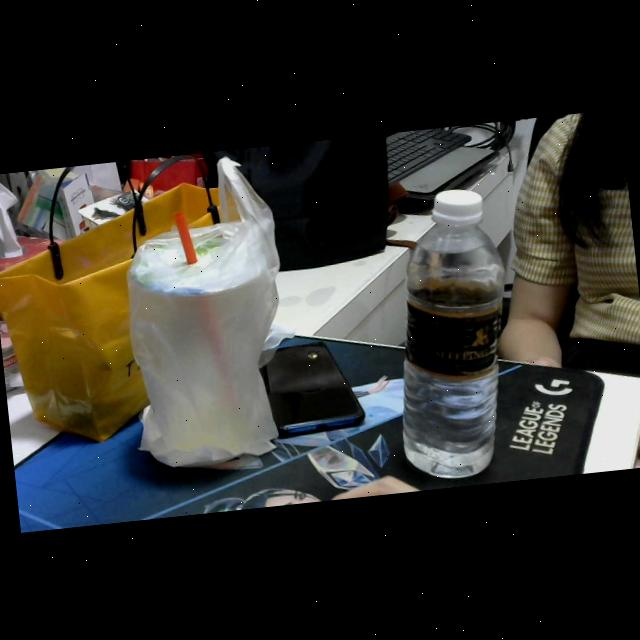trash: (372, 182, 526, 483)
